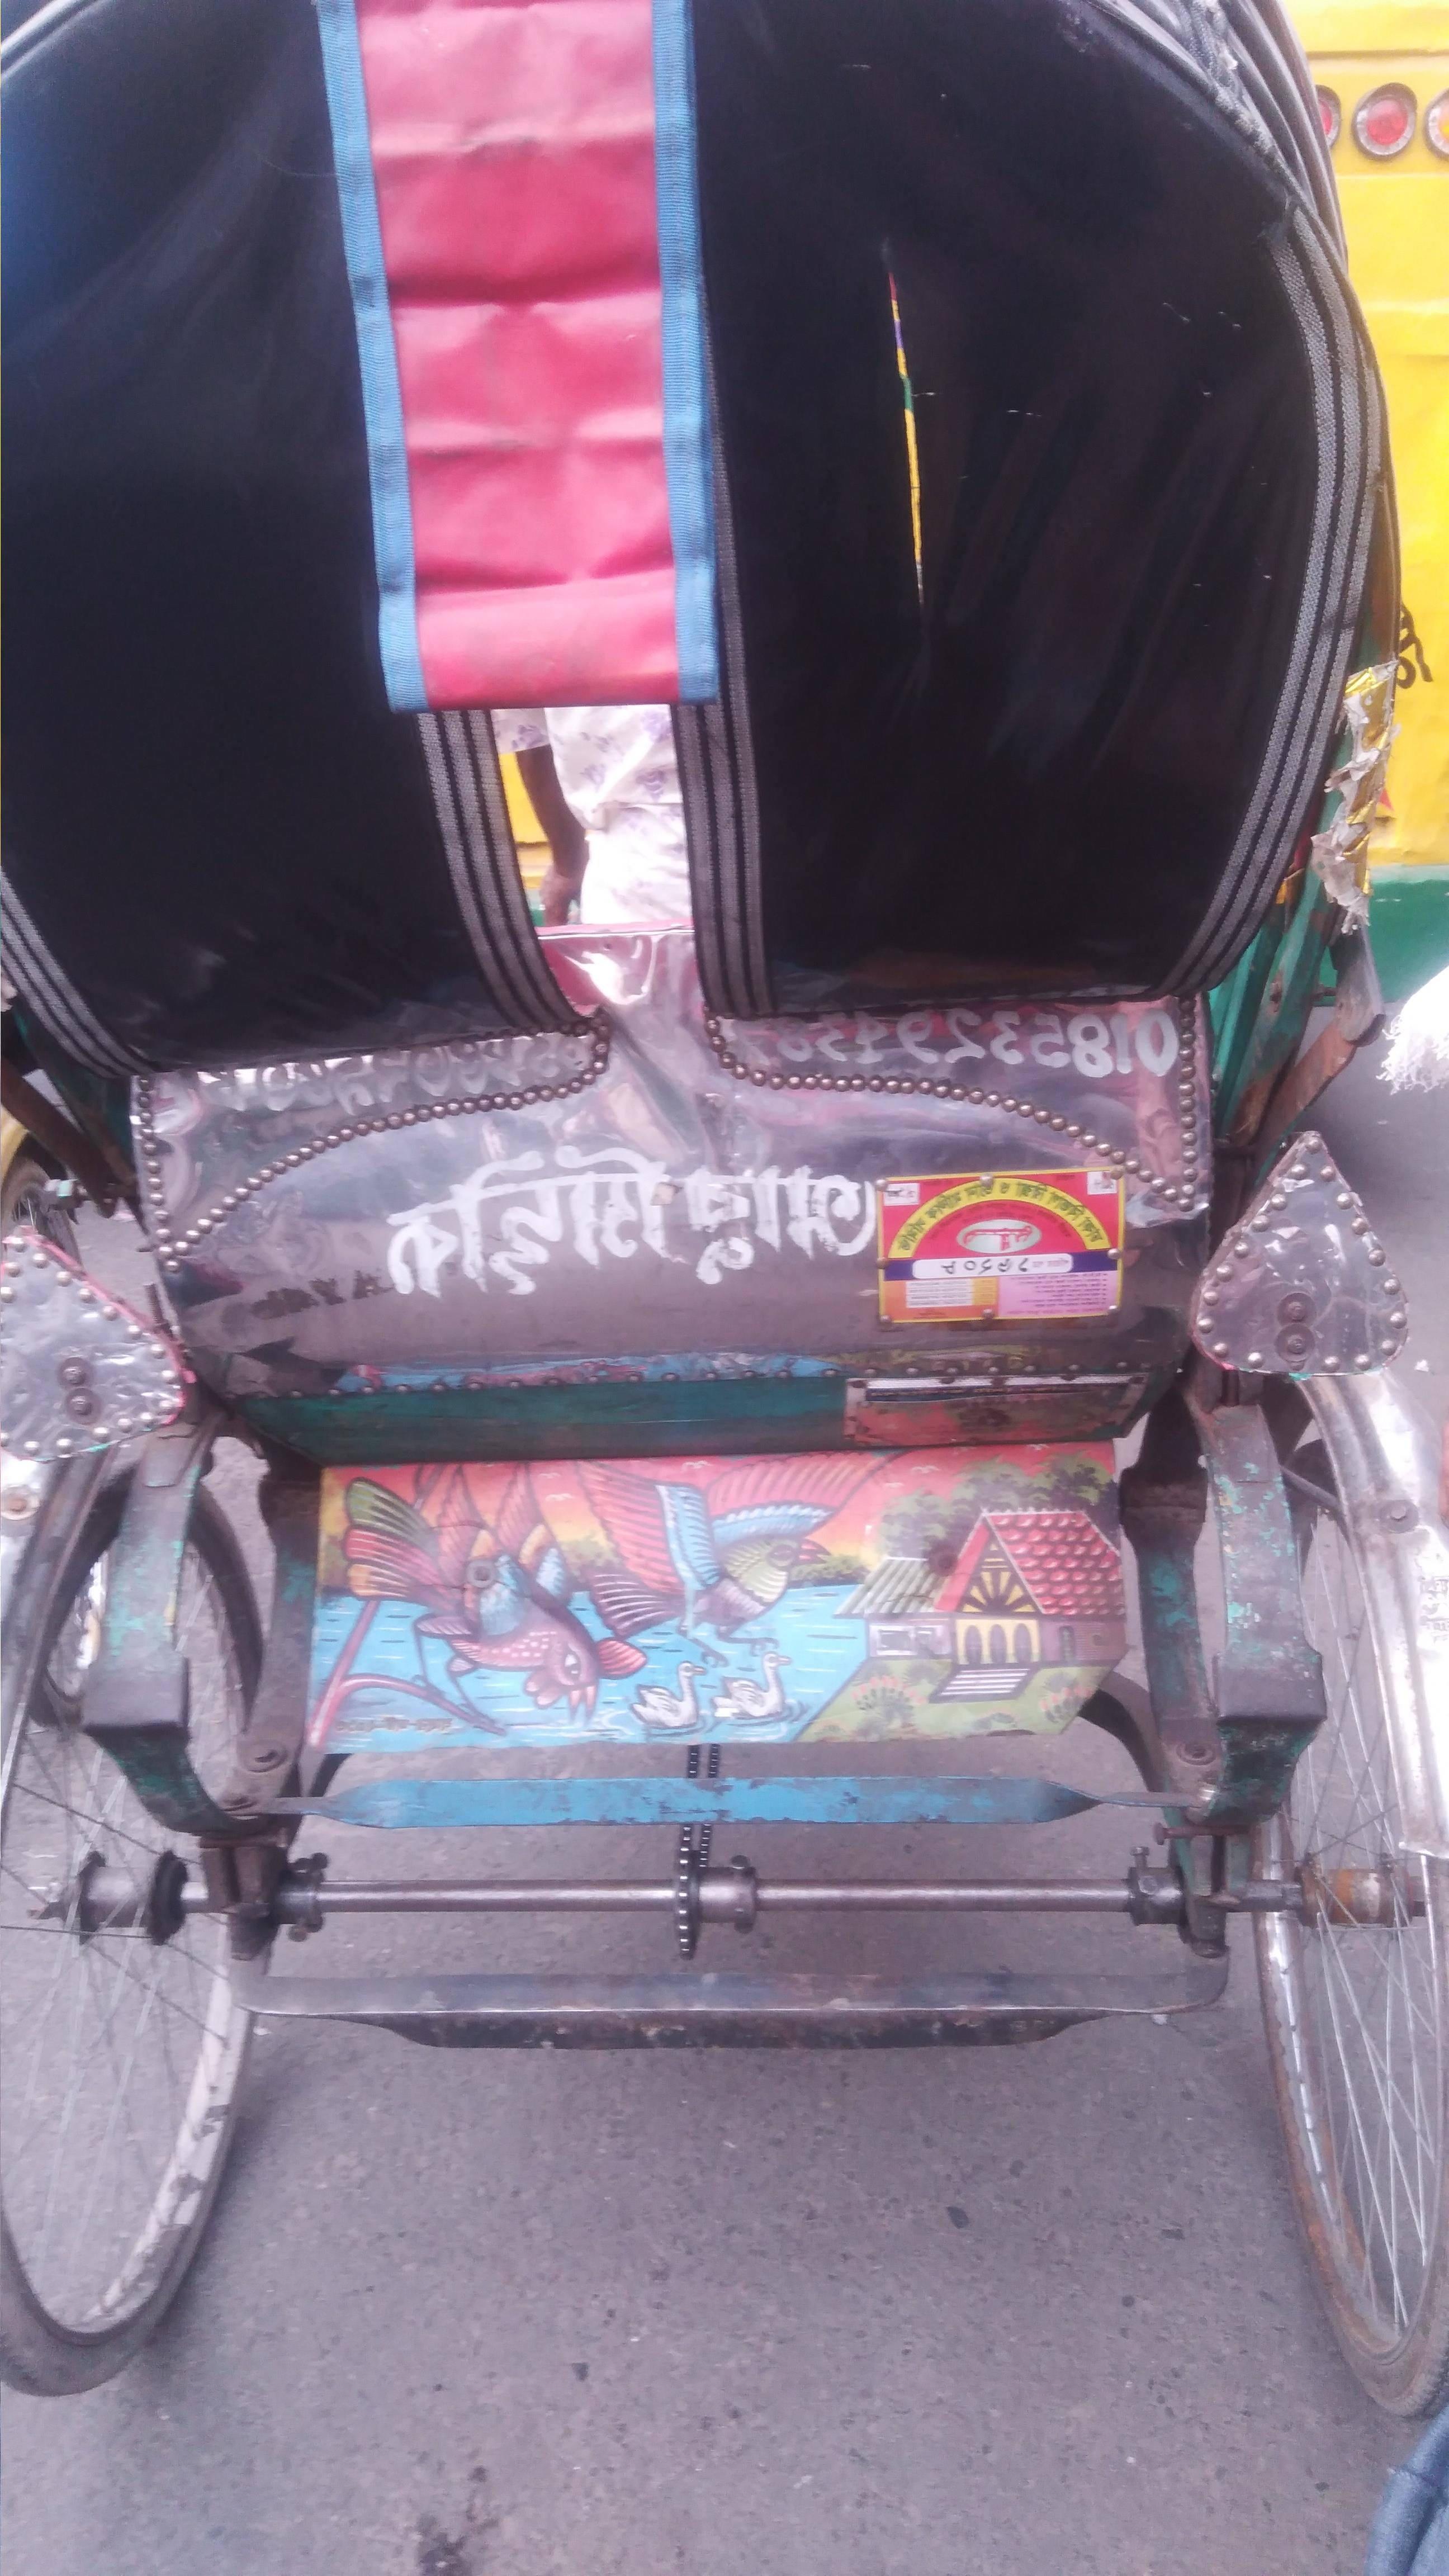Rickshaw: (16, 11, 1447, 2337)
